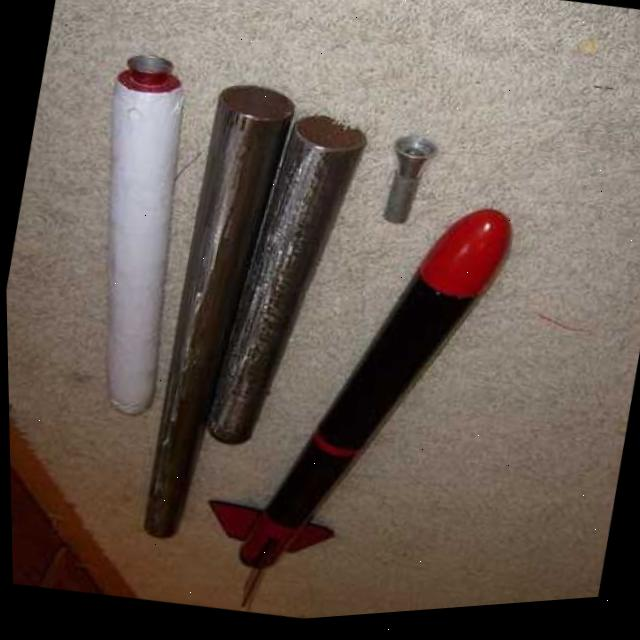missile: (182, 170, 520, 630)
